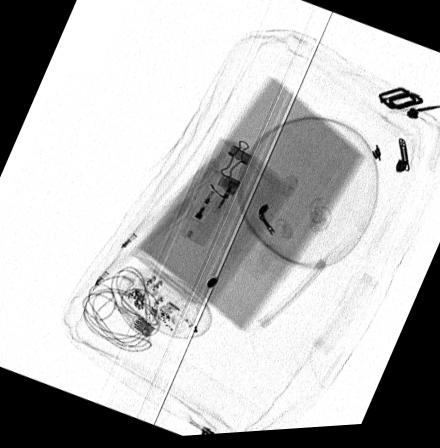Lighter: (180, 172, 241, 249)
